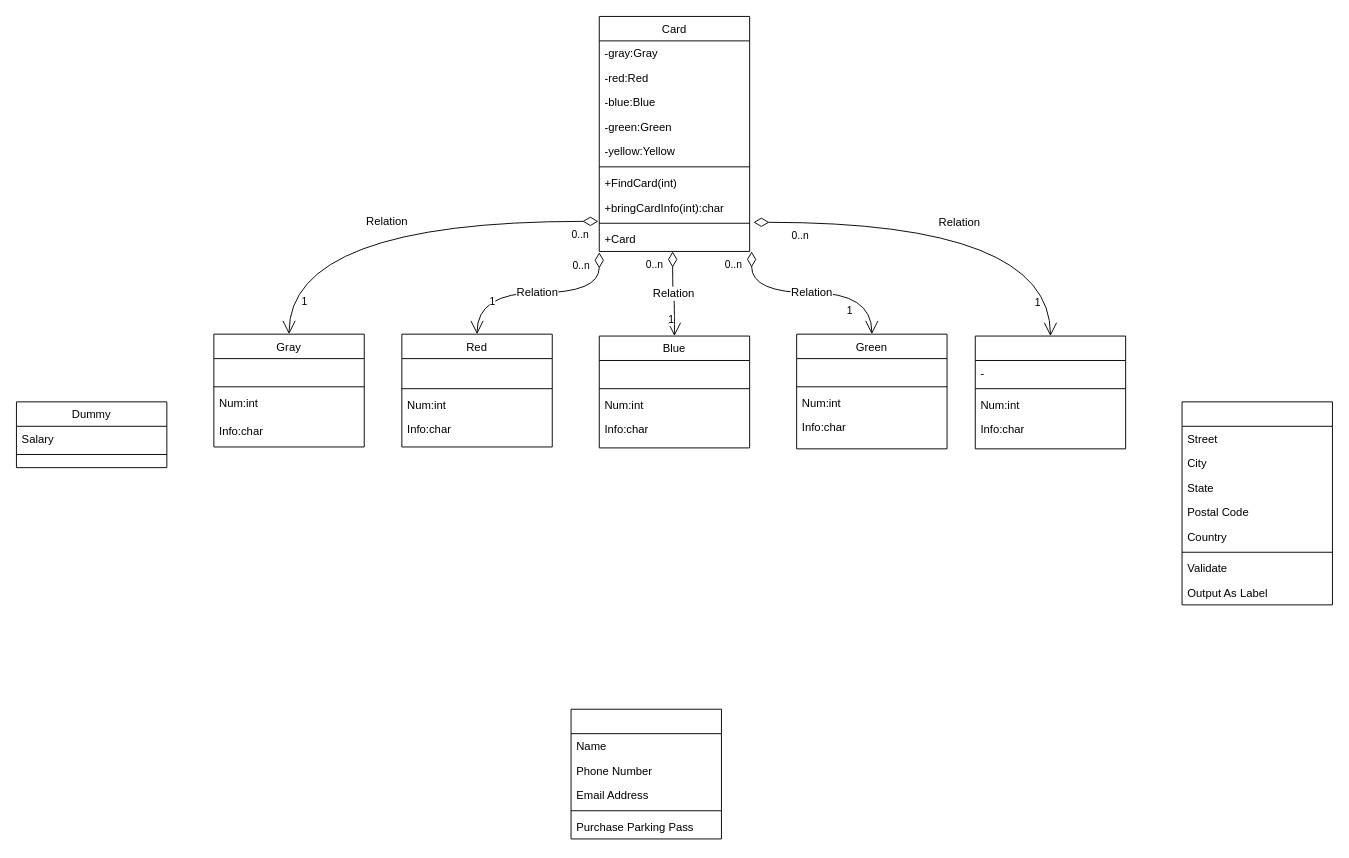
Some shapes in this 1349 by 858 pixel diagram are drawn without their labels. The shapes that lost their labels are listed below. From the top down, each one's box as (x1, y1, x2, y2) in pixels, then its label:
(974, 335, 1126, 449): Yellow
(1181, 401, 1332, 605): App
(570, 708, 721, 839): Player
